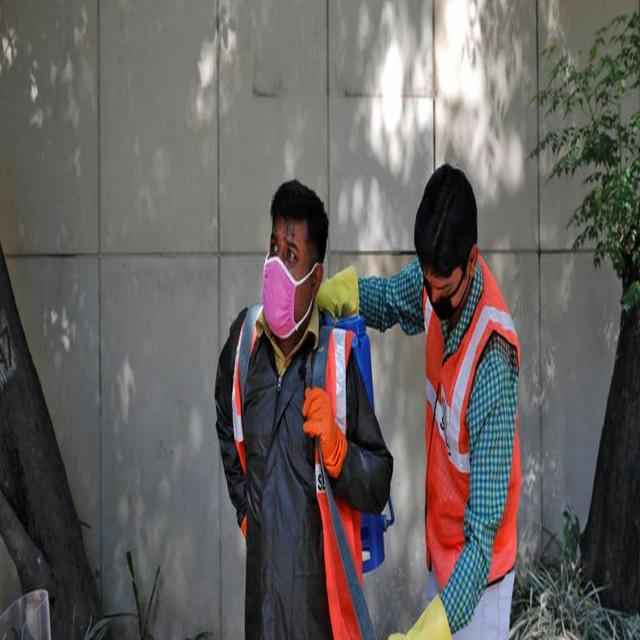Reflective-Jacket: (221, 300, 377, 636), (406, 260, 526, 600)
